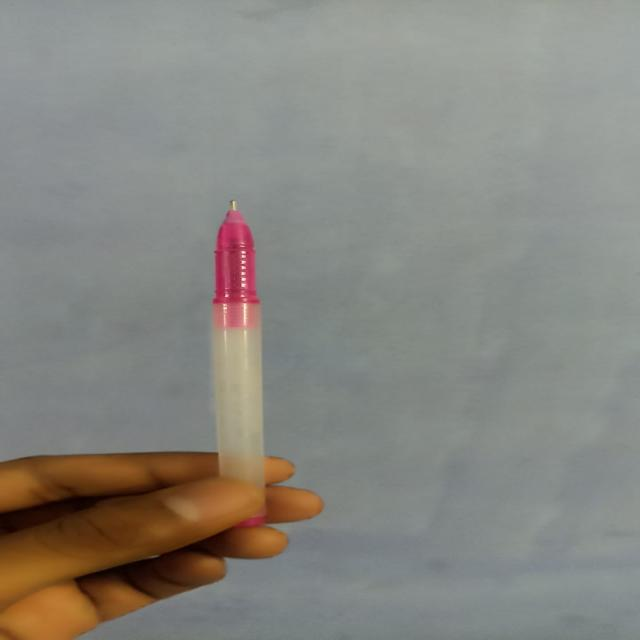pen: (182, 194, 324, 541)
